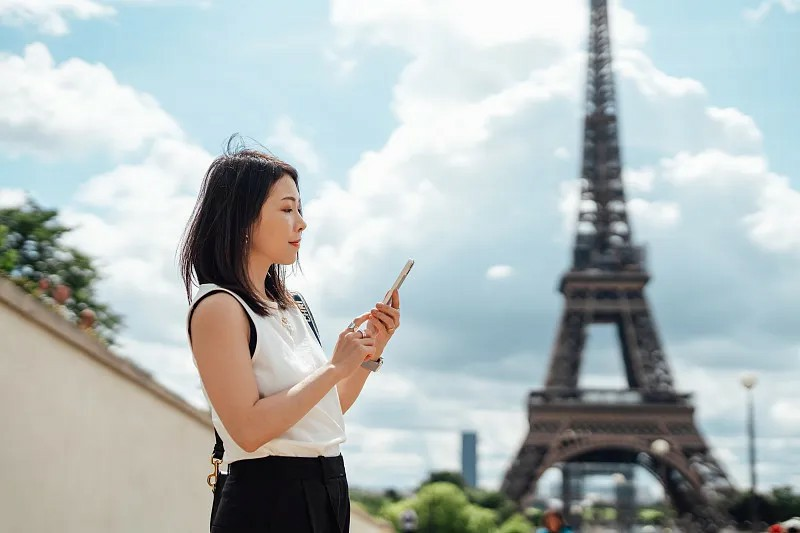Eiffel: (496, 1, 742, 531)
